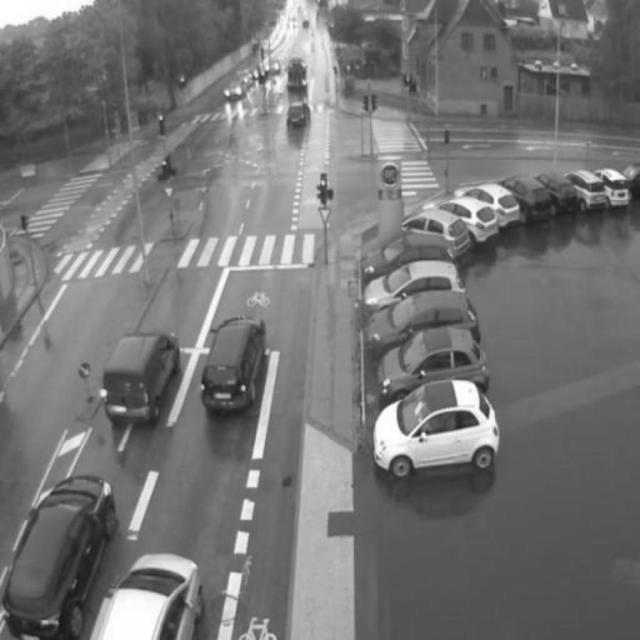vehicle: (0, 470, 110, 634), (371, 384, 501, 478), (380, 330, 488, 400), (200, 315, 268, 413), (104, 329, 176, 421), (365, 293, 478, 351), (366, 260, 469, 310), (361, 236, 459, 273), (433, 192, 497, 243), (402, 209, 470, 254)
